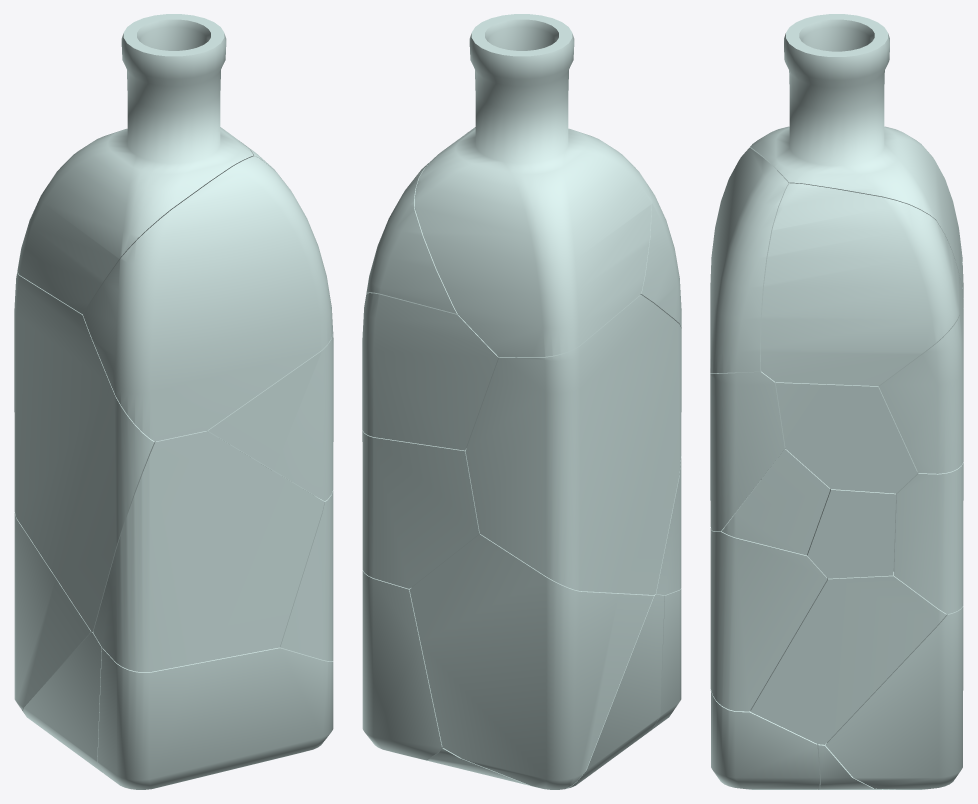
File: container_square_shards.glb
3 views of the same model, side by side, from view 1: azimuth 30°, elevation 25°; view 2: azimuth 150°, elevation 25°; view 3: azimuth 270°, elevation 25° (orthographic).
Visible parts, largest first — view 1: Shard_03, Shard_06, Shard_01, Shard_00, Shard_02, Shard_11, Shard_05, Shard_04, Shard_12; view 2: Shard_01, Shard_00, Shard_05, Shard_09, Shard_10, Shard_08, Shard_04, Shard_07, Shard_03, Shard_02, Shard_06; view 3: Shard_07, Shard_01, Shard_13, Shard_08, Shard_12, Shard_03, Shard_14, Shard_11, Shard_09, Shard_10, Shard_02, Shard_15 (+2 smaller).
Boxes of the visible parts, x1=… form: Shard_03: x1=83, y1=156, x2=332, y2=441; Shard_06: x1=93, y1=431, x2=324, y2=672; Shard_01: x1=17, y1=14, x2=253, y2=314; Shard_00: x1=14, y1=271, x2=155, y2=631; Shard_02: x1=97, y1=647, x2=333, y2=789; Shard_11: x1=207, y1=332, x2=333, y2=501; Shard_05: x1=14, y1=512, x2=91, y2=710; Shard_04: x1=22, y1=631, x2=102, y2=772; Shard_12: x1=280, y1=490, x2=333, y2=661; Shard_01: x1=414, y1=14, x2=651, y2=357; Shard_00: x1=465, y1=295, x2=681, y2=594; Shard_05: x1=409, y1=534, x2=653, y2=789; Shard_09: x1=362, y1=293, x2=498, y2=450; Shard_10: x1=362, y1=430, x2=479, y2=588; Shard_08: x1=362, y1=570, x2=442, y2=759; Shard_04: x1=422, y1=594, x2=664, y2=789; Shard_07: x1=366, y1=127, x2=475, y2=315; Shard_03: x1=634, y1=166, x2=681, y2=328; Shard_02: x1=652, y1=588, x2=681, y2=729; Shard_06: x1=656, y1=456, x2=681, y2=595; Shard_07: x1=760, y1=183, x2=959, y2=385; Shard_01: x1=749, y1=14, x2=962, y2=285; Shard_13: x1=750, y1=571, x2=946, y2=744; Shard_08: x1=825, y1=606, x2=963, y2=789; Shard_12: x1=710, y1=527, x2=827, y2=711; Shard_03: x1=710, y1=148, x2=788, y2=373; Shard_14: x1=775, y1=382, x2=917, y2=493; Shard_11: x1=710, y1=371, x2=785, y2=531; Shard_09: x1=879, y1=278, x2=963, y2=473; Shard_10: x1=893, y1=462, x2=963, y2=614; Shard_02: x1=710, y1=689, x2=819, y2=789; Shard_15: x1=807, y1=489, x2=895, y2=578.
Size of the model in its own units: 0.0719 by 0.2225 by 0.0719.
